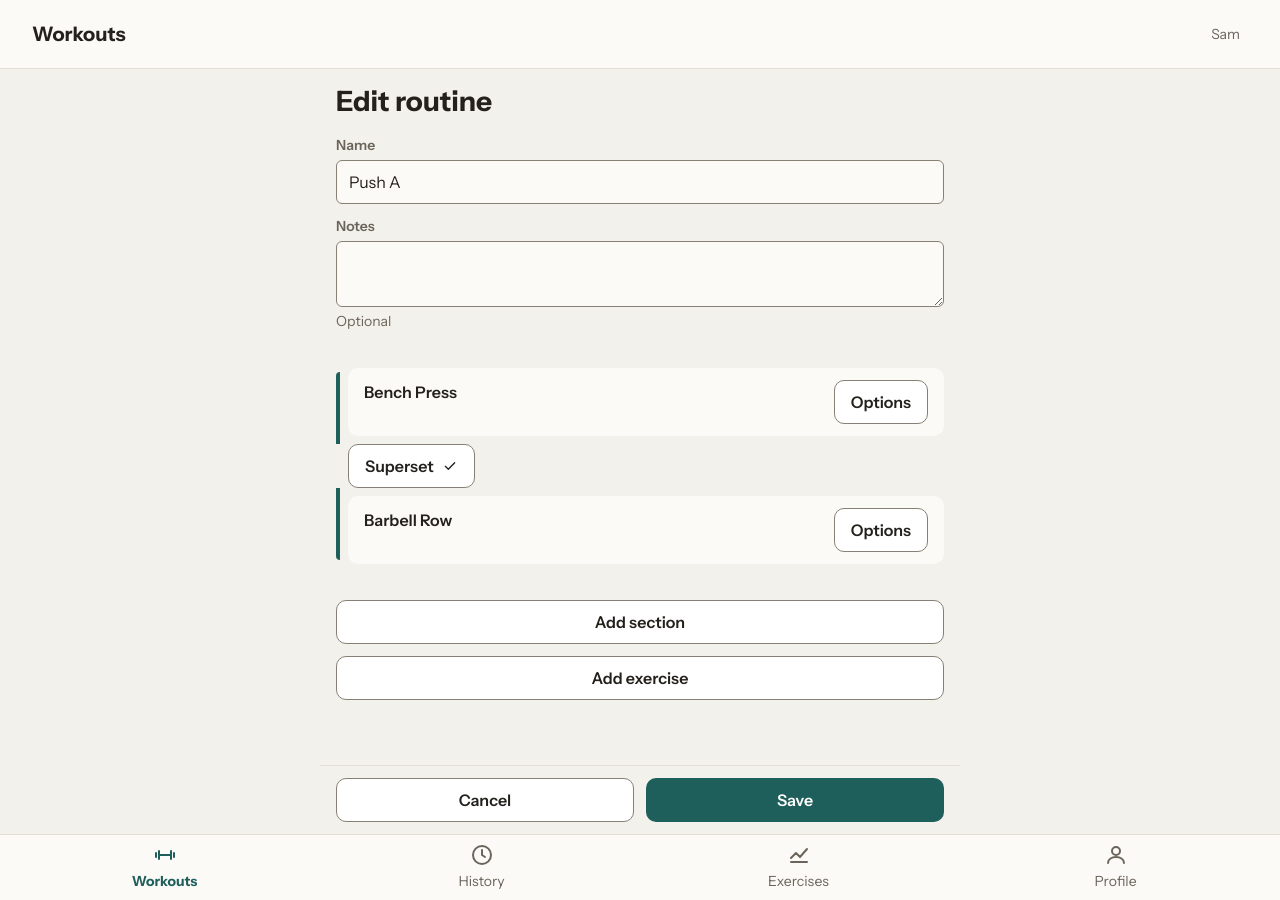
Test: 10.0 AC36 — routine screens, accessibly › editor: one h1, pressed toggles naming both exercises, edge moves disabled not hidden
Expected: the number of headings is 1, [336,84,492,118]
Click the 1st button "Options" at [881, 402], box [834,380,928,424]
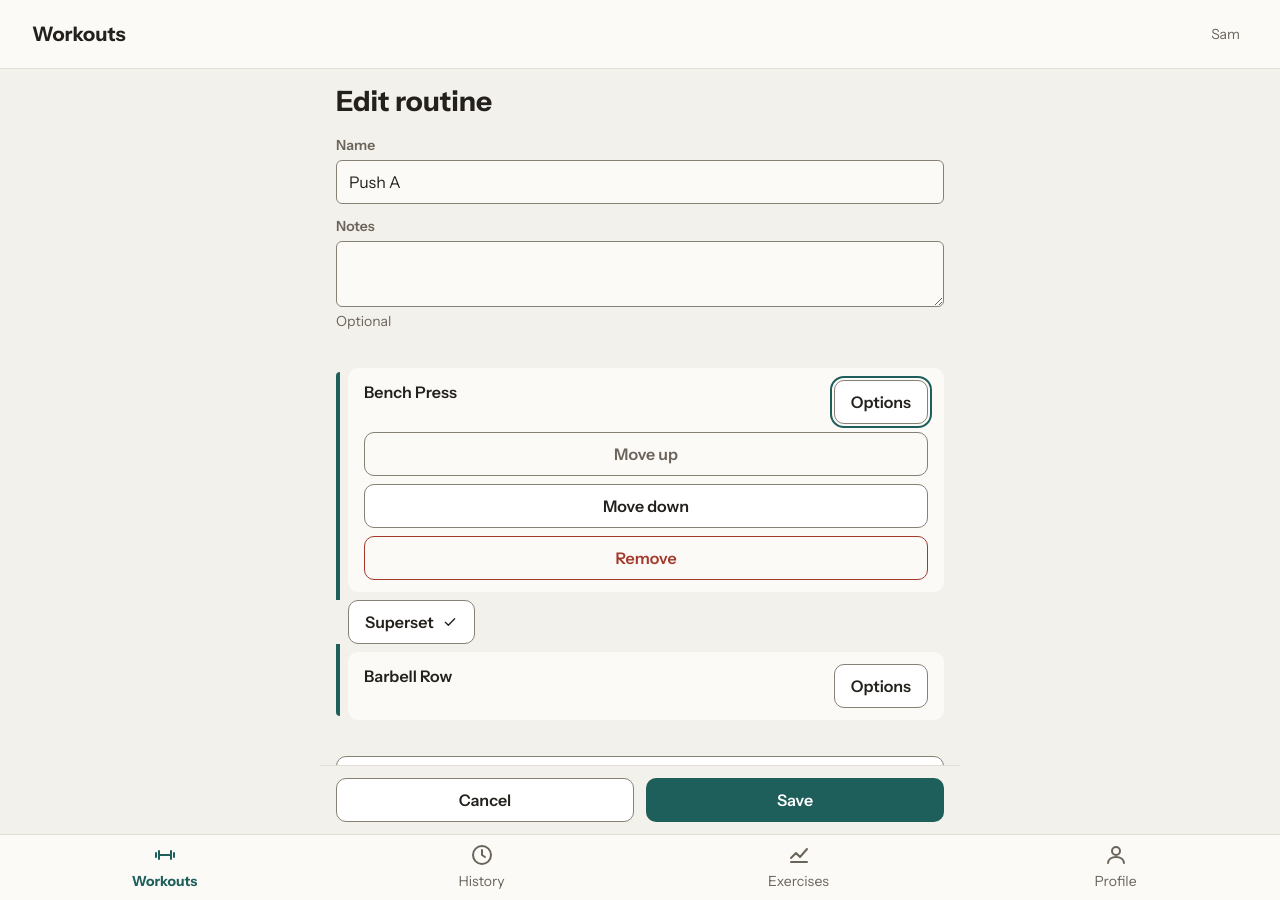
Expected: the button with aria-label "Bench Press, superset 1" is shown, [364,380,822,424]
Expected: the button "Move up" is disabled, [364,432,928,476]
